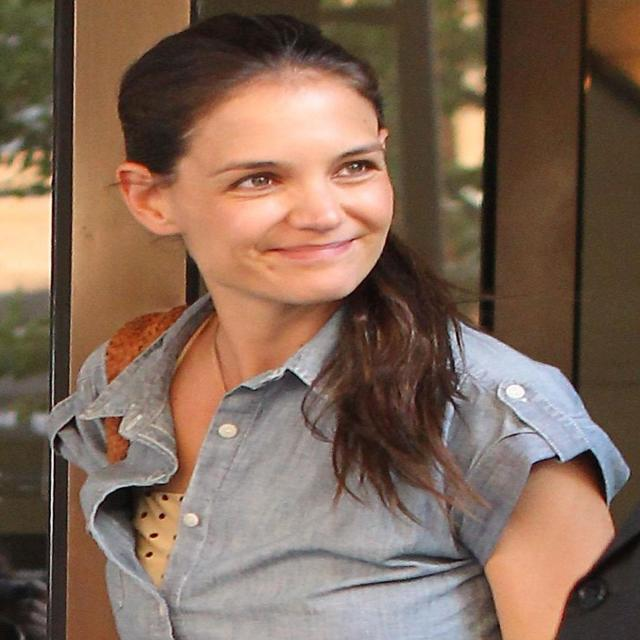no-earmuff: (101, 137, 195, 256)
